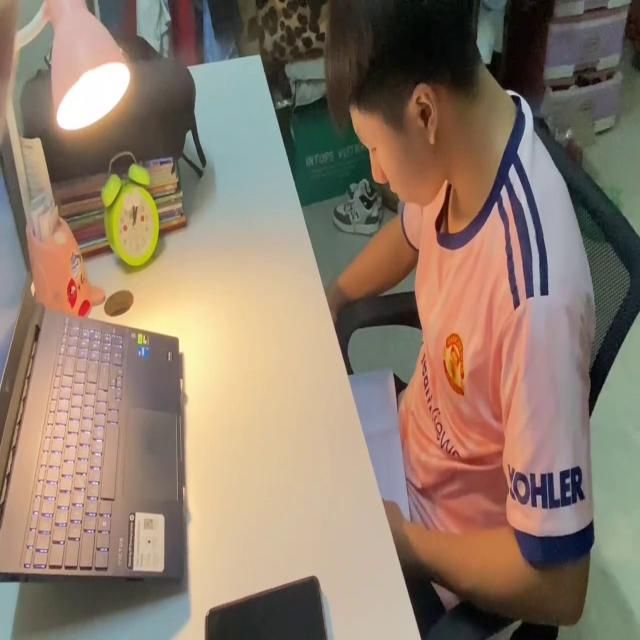book: (349, 366, 415, 540)
laptop: (0, 145, 188, 583)
phone: (204, 569, 328, 640)
student: (326, 0, 595, 640)
